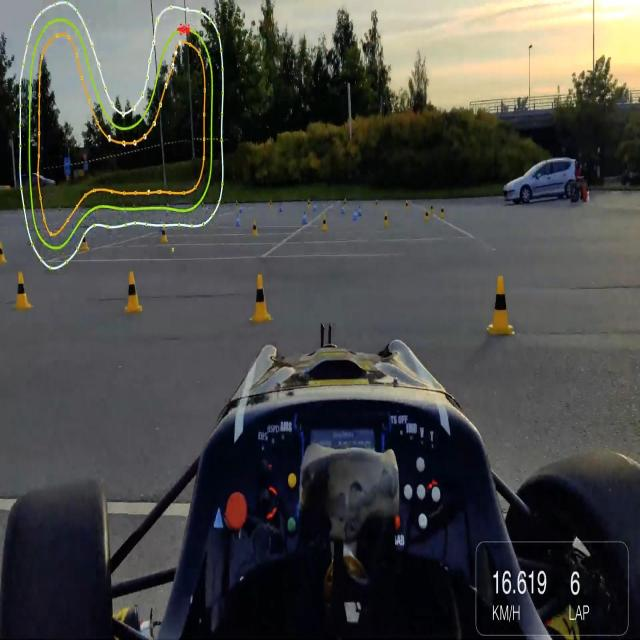blue_cone: (302, 212, 308, 225), (236, 214, 240, 227)
yellow_cone: (489, 276, 513, 334), (252, 275, 270, 322), (125, 272, 142, 313), (14, 272, 31, 310), (160, 224, 167, 242), (82, 233, 88, 250), (252, 220, 258, 237), (384, 213, 389, 227), (322, 216, 327, 229)
